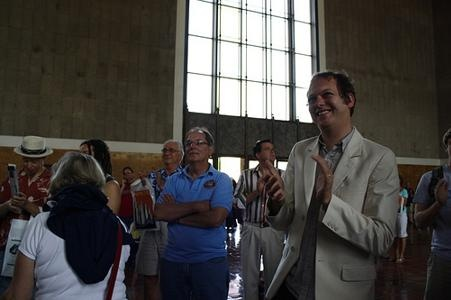person without safety: (265, 61, 403, 300), (25, 153, 127, 295), (153, 125, 236, 290)
